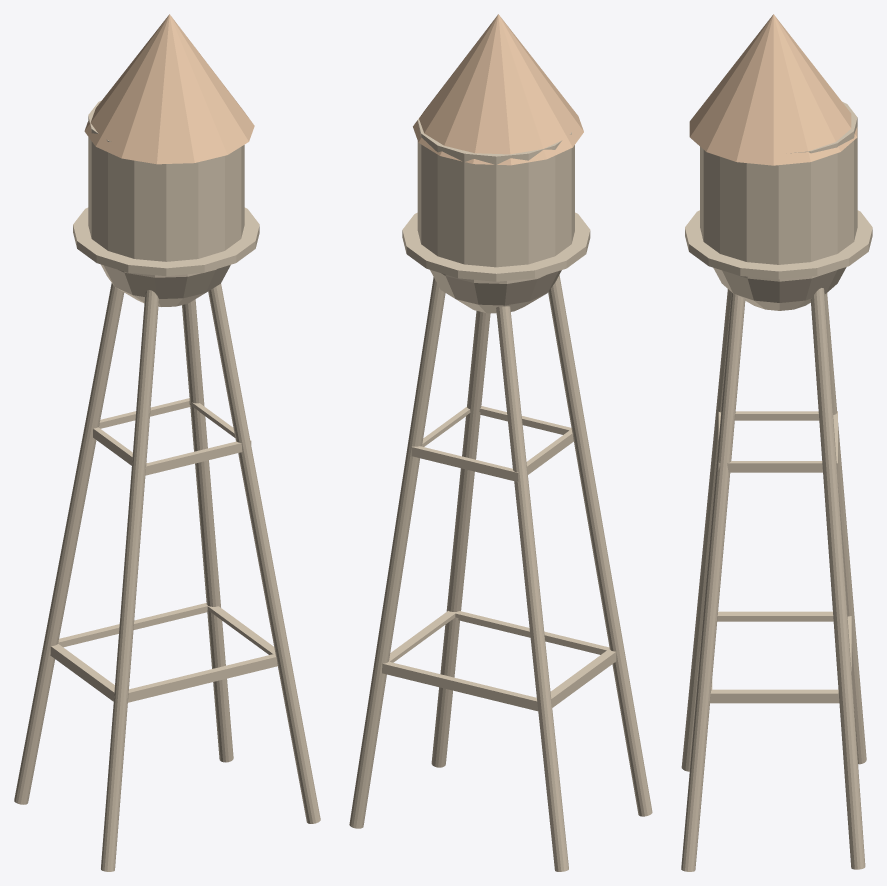
Rendered from water_tower.glb.
3 renders of one model, left to right at view 1: azimuth 30°, elevation 25°; view 2: azimuth 150°, elevation 25°; view 3: azimuth 270°, elevation 25°, orthographic.
Visible parts, largest first — view 1: Water_tower; view 2: Water_tower; view 3: Water_tower.
Boxes of the visible parts, x1,y1,x2,y2 form: Water_tower: [14, 14, 320, 871]; Water_tower: [349, 14, 652, 871]; Water_tower: [681, 14, 872, 871].
Bounding box in the file's own units: 8.21 × 28.64 × 6.16.
